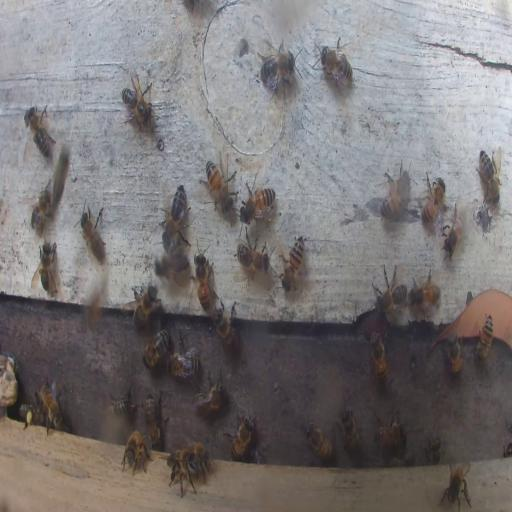bee: (258, 39, 297, 97), (318, 36, 354, 92), (204, 154, 236, 214), (379, 164, 411, 218), (440, 459, 473, 511), (24, 102, 54, 158), (163, 184, 189, 247), (372, 267, 406, 315), (78, 203, 105, 261), (120, 80, 153, 126), (241, 183, 278, 224), (440, 201, 465, 260), (418, 174, 446, 226), (477, 147, 501, 206), (120, 428, 150, 474), (33, 240, 58, 295), (195, 371, 225, 416), (168, 450, 198, 495), (129, 284, 161, 326), (194, 246, 214, 312), (282, 235, 306, 290), (225, 414, 254, 459), (236, 237, 268, 277), (213, 304, 238, 353), (37, 382, 62, 430), (305, 422, 334, 463), (409, 274, 441, 310), (337, 408, 362, 454), (142, 328, 170, 369), (30, 182, 53, 231), (144, 394, 165, 446), (369, 331, 388, 385), (374, 418, 406, 450), (154, 250, 189, 279), (475, 315, 494, 361), (167, 350, 198, 378), (108, 386, 136, 414), (444, 334, 462, 376), (182, 437, 208, 466), (426, 430, 442, 462), (388, 448, 414, 466), (20, 405, 38, 425), (250, 446, 266, 464)
